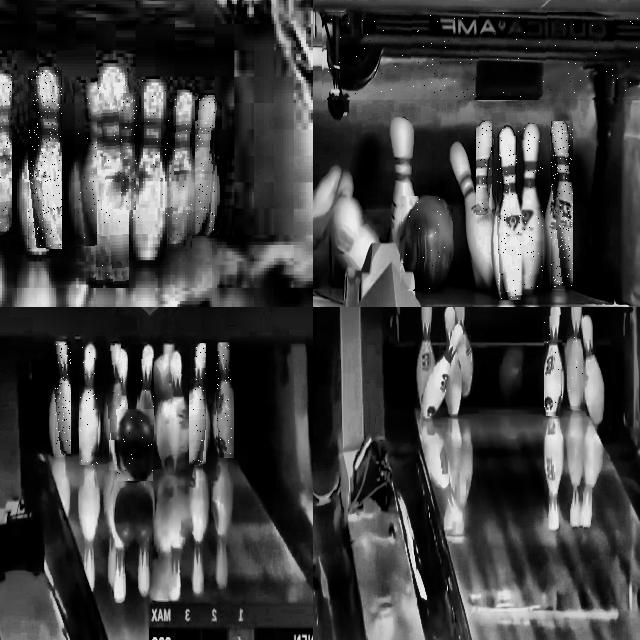bowling-ball: (402, 196, 452, 289), (117, 410, 153, 481)
bowling-pins: (95, 67, 129, 287), (132, 80, 166, 264), (28, 70, 62, 249), (497, 128, 521, 299), (520, 125, 542, 294), (167, 94, 191, 248), (551, 122, 573, 287), (77, 84, 97, 245), (197, 95, 214, 232), (79, 343, 98, 465), (110, 349, 128, 469), (120, 95, 138, 209), (216, 342, 234, 455), (544, 307, 562, 413), (0, 75, 11, 233), (55, 342, 70, 455), (567, 307, 583, 407), (192, 343, 205, 463), (139, 344, 154, 438), (478, 121, 491, 214), (109, 343, 121, 440)
sweep board: (324, 12, 640, 92)
